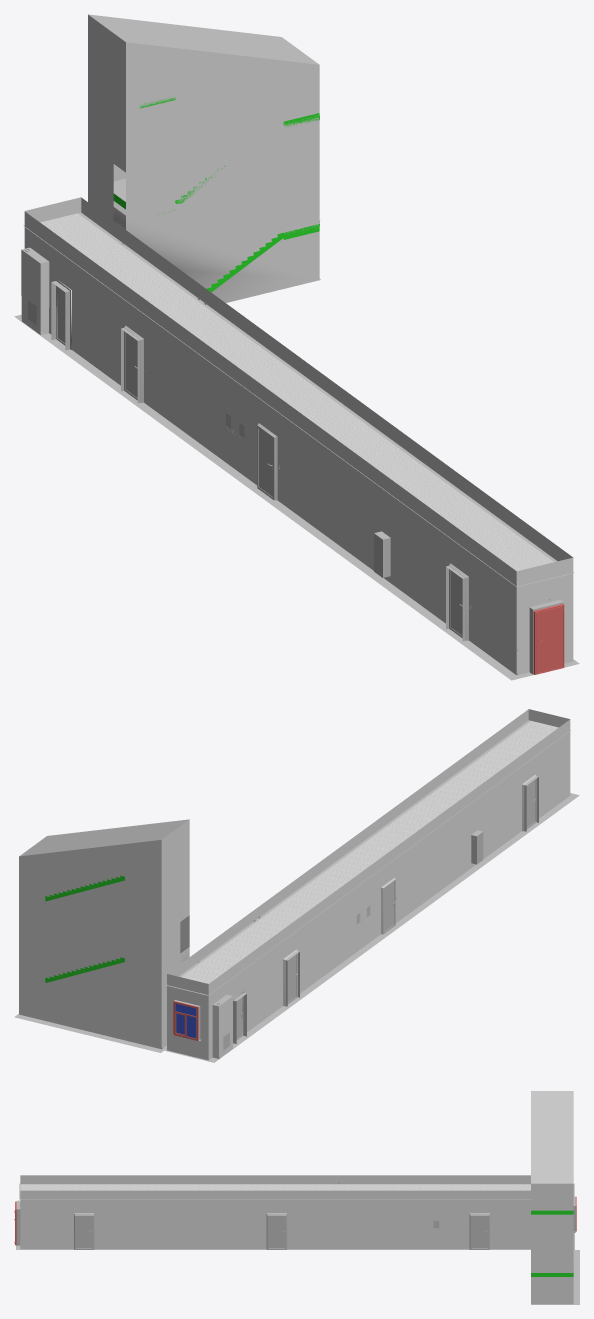
File: koridor_unitu.fbx
3 renders of one model, top to bottom at view 1: azimuth 30°, elevation 25°; view 2: azimuth 150°, elevation 25°; view 3: azimuth 270°, elevation 25°, orthographic. The views are drawn at different scales.
Visible parts, largest first — view 1: koridor.005, Box072, koridor.001, koridor.002, koridor.007, door_main.001, koridor; view 2: koridor.005, Box072, koridor.001, koridor.002, koridor.007, koridor, windows_back.001, door_main.014, 1st_floor_back_middle.001; view 3: koridor.005, Box072, koridor.001, koridor.007, koridor, door_main.006, door_main.008, door_main.010, koridor.002, door_frame.005.
Part boxes in pixels (x1,y1,x2,y2): koridor.005: [21, 197, 573, 675]; Box072: [88, 14, 319, 302]; koridor.001: [40, 213, 553, 571]; koridor.002: [14, 314, 579, 680]; koridor.007: [23, 212, 574, 586]; door_main.001: [536, 606, 563, 673]; koridor: [113, 97, 320, 279]; koridor.005: [167, 709, 570, 1060]; Box072: [19, 819, 189, 1049]; koridor.001: [181, 721, 558, 983]; koridor.002: [164, 793, 579, 1062]; koridor.007: [166, 720, 570, 995]; koridor: [14, 897, 166, 1052]; windows_back.001: [175, 1003, 196, 1038]; door_main.014: [384, 882, 394, 931]; 1st_floor_back_middle.001: [173, 1001, 198, 1040]; koridor.005: [16, 1175, 575, 1249]; Box072: [531, 1091, 573, 1304]; koridor.001: [20, 1184, 530, 1190]; koridor.007: [19, 1183, 574, 1199]; koridor: [531, 1210, 579, 1304]; door_main.006: [471, 1216, 487, 1248]; door_main.008: [268, 1216, 284, 1248]; door_main.010: [76, 1216, 92, 1248]; koridor.002: [16, 1232, 574, 1249]; door_frame.005: [266, 1213, 287, 1249].
Bounding box in the file's own units: 9.47 × 10.13 × 30.81.
